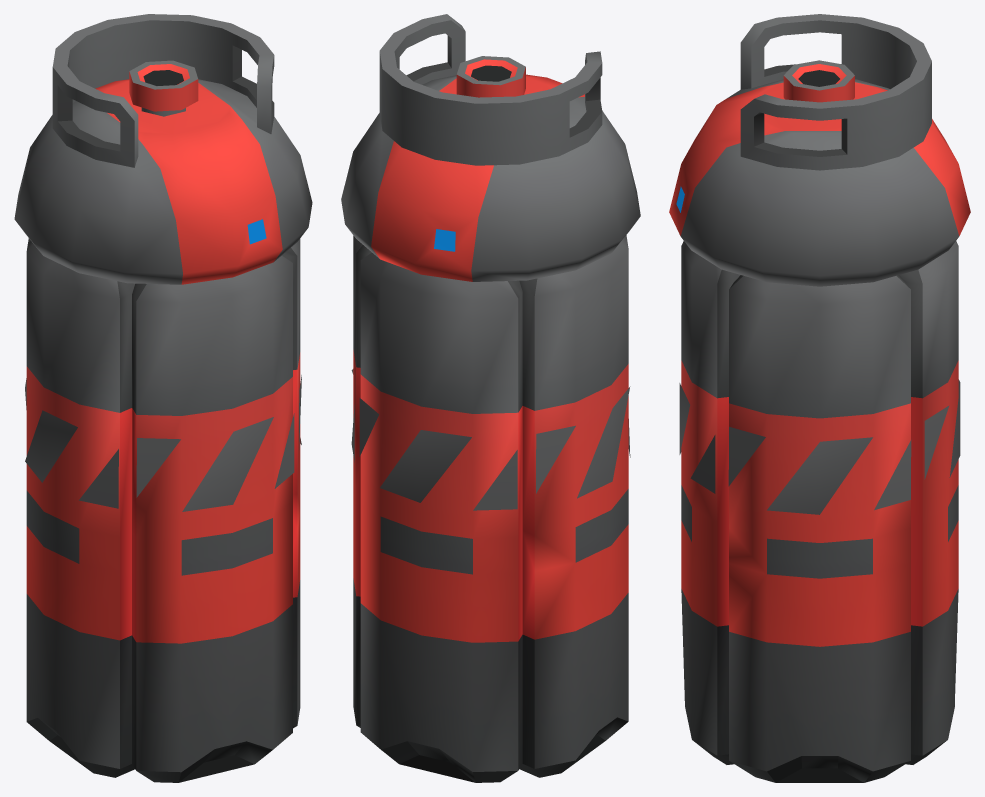
File: Barrel_016.glb
3 renders of one model, left to right at view 1: azimuth 30°, elevation 25°; view 2: azimuth 150°, elevation 25°; view 3: azimuth 270°, elevation 25°, orthographic.
Visible parts, largest first — view 1: Barrel_016; view 2: Barrel_016; view 3: Barrel_016.
Boxes of the visible parts, box(x1,y1,x2,y2) form: Barrel_016: box(14, 14, 312, 782); Barrel_016: box(341, 14, 640, 782); Barrel_016: box(669, 14, 970, 782).
Bounding box in the file's own units: 0.5331 × 1.32 × 0.5331.
2 materials, 2 textured.
